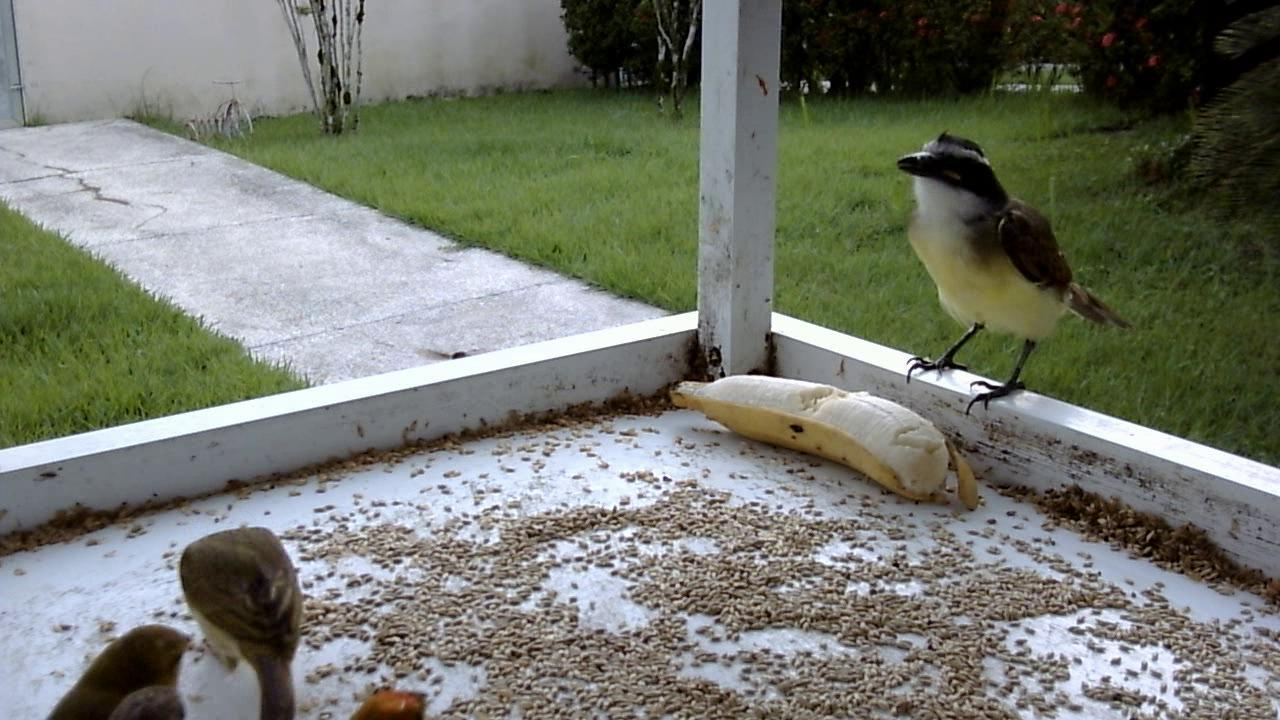bem_te_vi: (878, 122, 1141, 428)
canario_do_amazonas: (163, 513, 315, 716), (33, 614, 203, 715)
